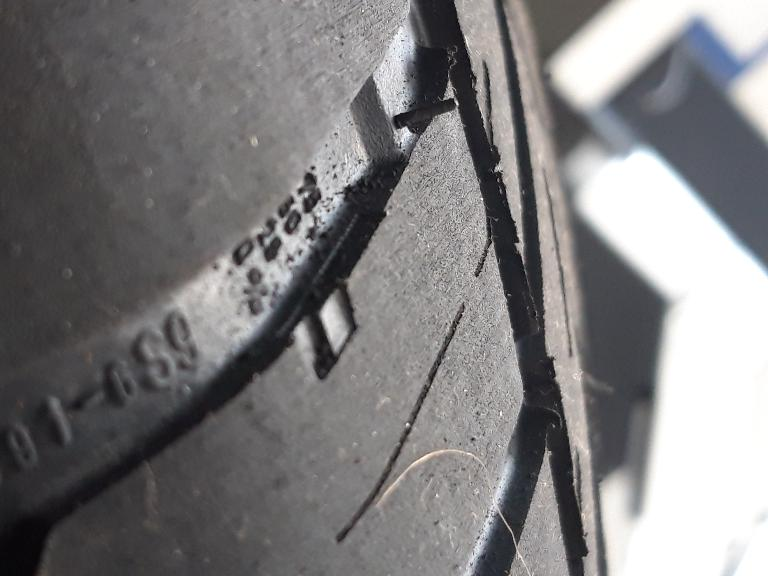temoin:25: (270, 265, 370, 395)
